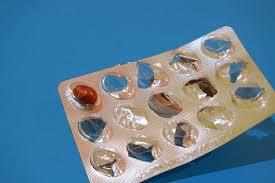pill_Strip: (58, 27, 274, 182)
